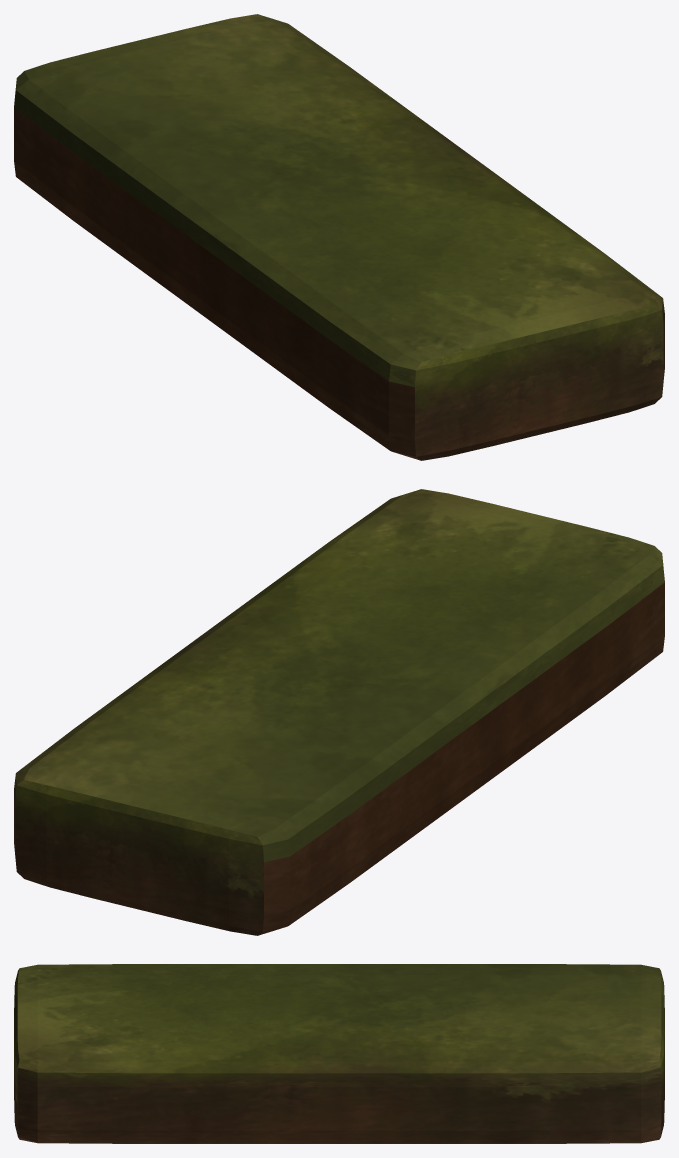
The model's file is F_Platform_1.fbx.
3 renders of one model, top to bottom at view 1: azimuth 30°, elevation 25°; view 2: azimuth 150°, elevation 25°; view 3: azimuth 270°, elevation 25°, orthographic. The views are drawn at different scales.
Visible parts, largest first — view 1: F_Platform_1; view 2: F_Platform_1; view 3: F_Platform_1.
Part boxes in pixels (x1,y1,x2,y2): F_Platform_1: (14,14,664,460); F_Platform_1: (14,489,664,935); F_Platform_1: (14,964,664,1143).
Bounding box in the file's own units: 9.28 × 1.37 × 3.71.
Materials: 1 (1 with a texture image).
